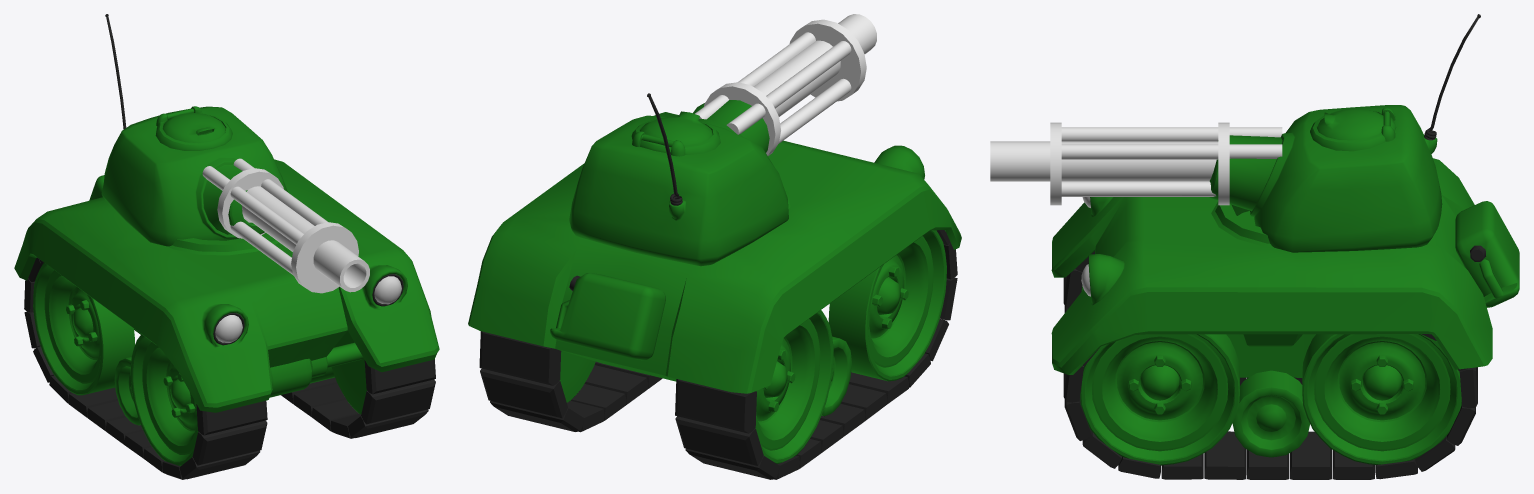
The model's file is Gunner.FBX.
3 renders of one model, left to right at view 1: azimuth 30°, elevation 25°; view 2: azimuth 150°, elevation 25°; view 3: azimuth 270°, elevation 25°, orthographic. The views are drawn at different scales.
Visible parts, largest first — view 1: TankChassis, TankTracksRight, TankTurret, Tube001, TankTracksLeft; view 2: TankChassis, TankTracksRight, TankTurret, Tube001, TankTracksLeft; view 3: TankChassis, TankTracksLeft, TankTurret, Tube001, TankTracksRight.
Boxes of the visible parts, x1=… form: TankChassis: x1=14, y1=159, x2=439, y2=425; TankTracksRight: x1=24, y1=257, x2=267, y2=479; TankTurret: x1=101, y1=14, x2=287, y2=246; Tube001: x1=202, y1=158, x2=369, y2=293; TankTracksLeft: x1=281, y1=330, x2=435, y2=438; TankChassis: x1=468, y1=103, x2=961, y2=416; TankTracksRight: x1=675, y1=230, x2=957, y2=479; TankTurret: x1=569, y1=93, x2=788, y2=266; Tube001: x1=695, y1=14, x2=876, y2=155; TankTracksLeft: x1=479, y1=331, x2=662, y2=432; TankChassis: x1=1051, y1=158, x2=1519, y2=457; TankTracksLeft: x1=1063, y1=334, x2=1477, y2=479; TankTurret: x1=1209, y1=14, x2=1480, y2=252; Tube001: x1=990, y1=122, x2=1282, y2=205; TankTracksRight: x1=1063, y1=251, x2=1302, y2=385.
Bounding box in the file's own units: 67 × 84.59 × 105.
